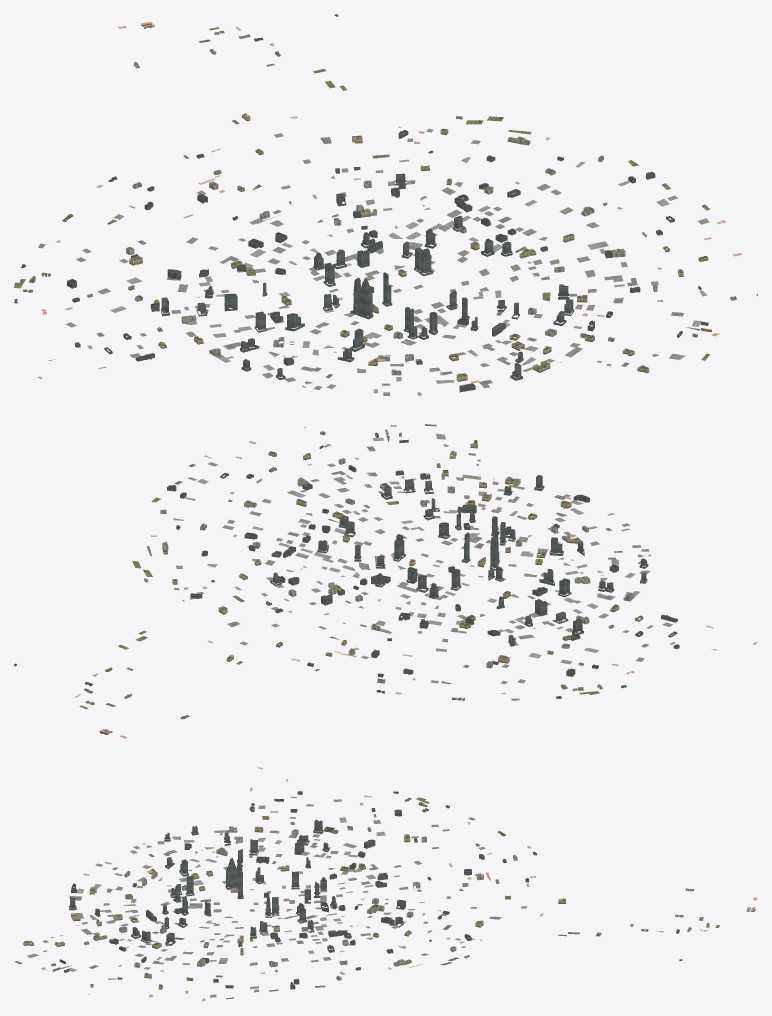
The model's file is city_3d_model_10.glb.
The picture shows the model from 3 angles, top to bottom: view 1: azimuth 30°, elevation 25°; view 2: azimuth 150°, elevation 25°; view 3: azimuth 270°, elevation 25°; orthographic projection. The views are drawn at different scales.
Visible parts, largest first — view 1: Object_118, Object_116, Object_110, Object_108, Object_114, Object_106, Object_112, Object_104; view 2: Object_118, Object_116, Object_110, Object_108, Object_114, Object_112, Object_106, Object_104; view 3: Object_118, Object_116, Object_108, Object_110, Object_114, Object_112, Object_106, Object_104.
Boxes of the visible parts, left/top/right/bottom form: Object_118: left=14, top=14, right=708, bottom=392; Object_116: left=65, top=128, right=709, bottom=395; Object_110: left=87, top=131, right=707, bottom=395; Object_108: left=23, top=51, right=711, bottom=381; Object_114: left=32, top=30, right=736, bottom=375; Object_106: left=14, top=27, right=757, bottom=377; Object_112: left=38, top=137, right=683, bottom=385; Object_104: left=37, top=22, right=741, bottom=383; Object_118: left=14, top=432, right=679, bottom=734; Object_116: left=171, top=435, right=672, bottom=684; Object_110: left=173, top=433, right=675, bottom=680; Object_108: left=105, top=429, right=643, bottom=700; Object_114: left=84, top=431, right=633, bottom=719; Object_112: left=227, top=446, right=648, bottom=700; Object_106: left=79, top=424, right=716, bottom=709; Object_104: left=74, top=424, right=757, bottom=738; Object_118: left=59, top=791, right=755, bottom=989; Object_116: left=29, top=799, right=527, bottom=997; Object_108: left=23, top=797, right=648, bottom=989; Object_110: left=27, top=796, right=491, bottom=989; Object_114: left=51, top=804, right=709, bottom=987; Object_112: left=43, top=804, right=501, bottom=968; Object_106: left=14, top=779, right=719, bottom=999; Object_104: left=41, top=767, right=757, bottom=1001.
Bounding box in the file's own units: 737 × 42.49 × 916.
8 materials, 8 textured.
